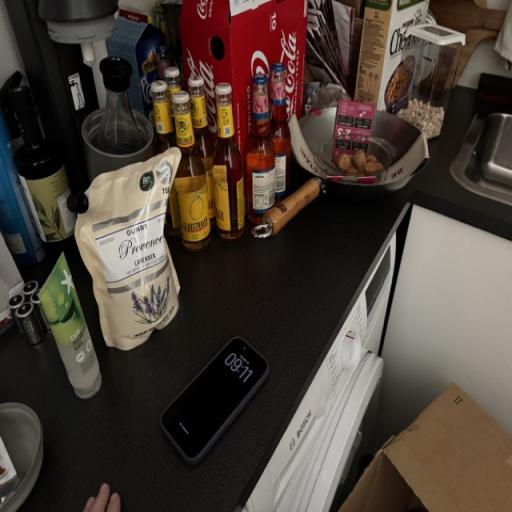phone: (176, 338, 285, 475)
